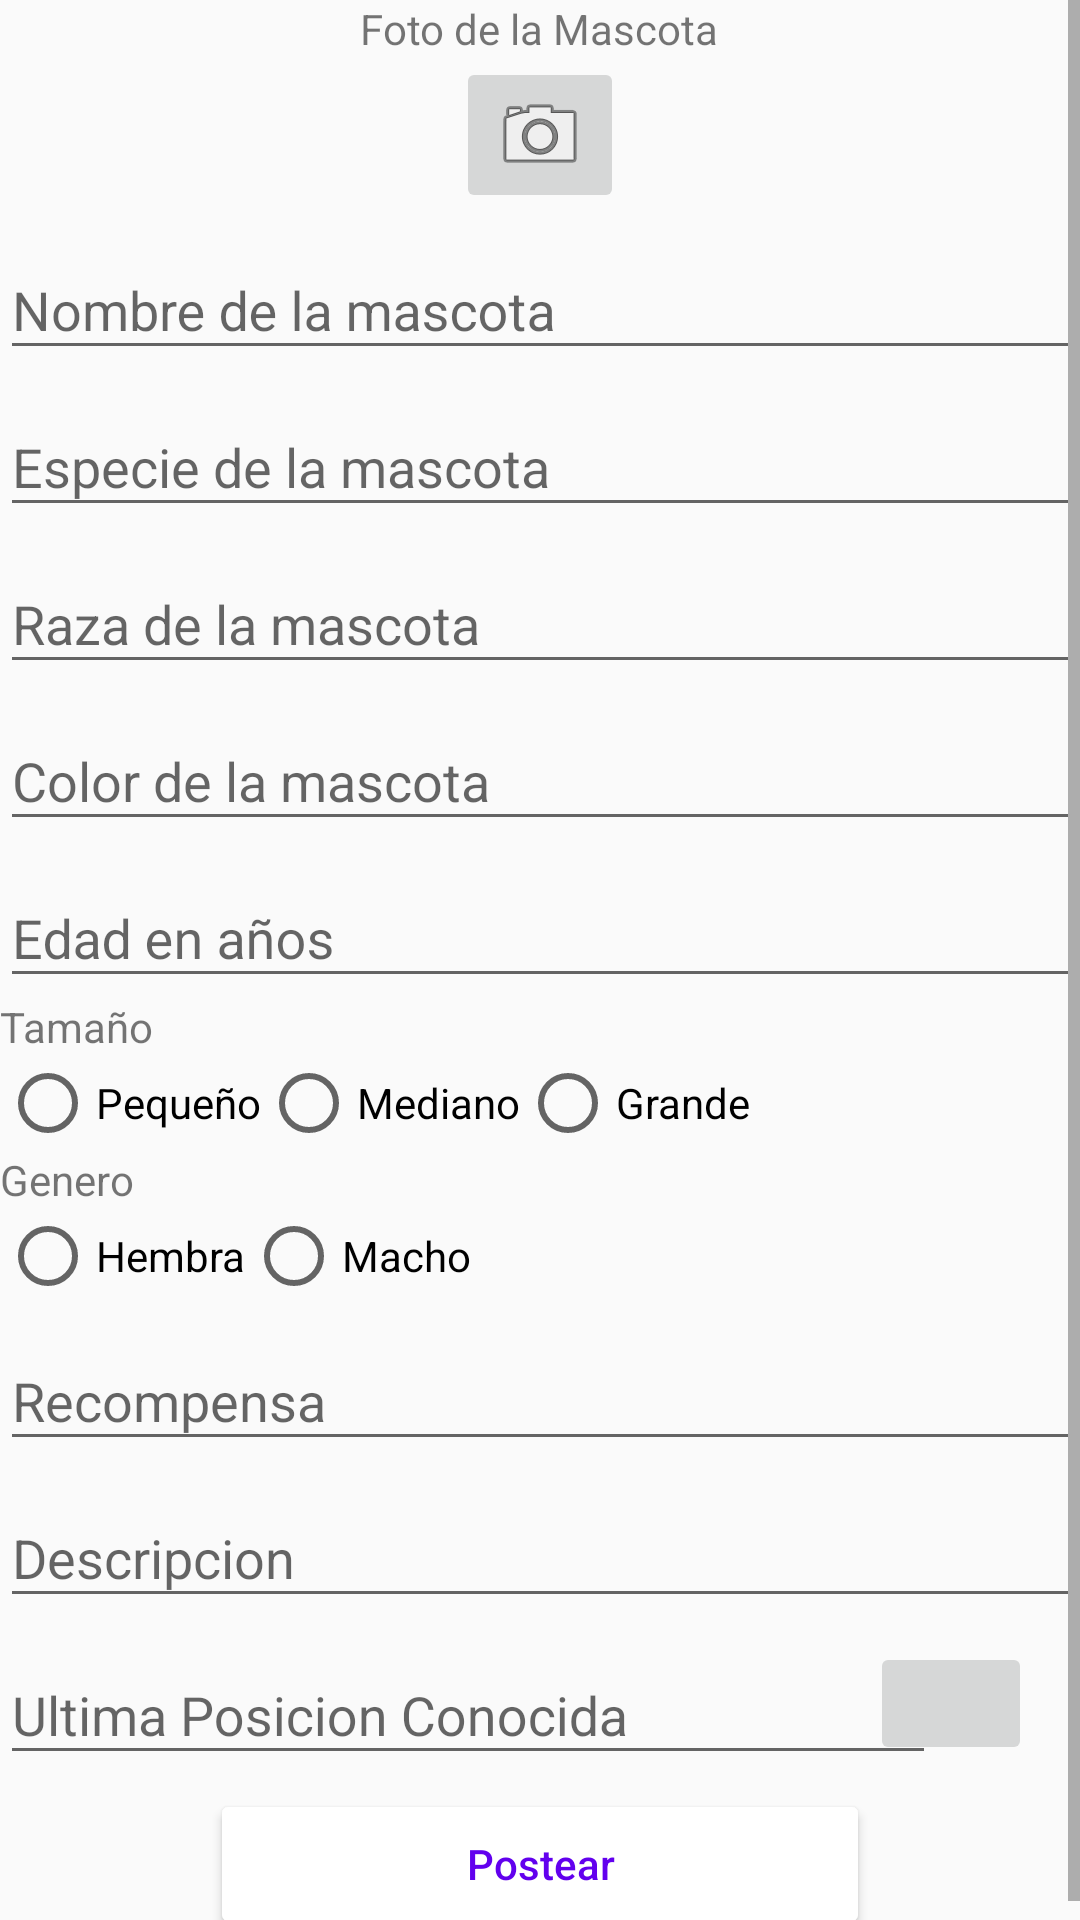

Icons on this 1080*1920 Android screen, each with its box as (x1, y1, x2, y2):
camera: (468, 75, 612, 195)
